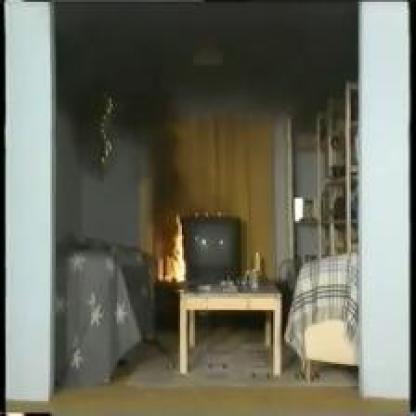fire: (154, 210, 188, 284)
smoke: (59, 4, 345, 111), (114, 79, 196, 220)
